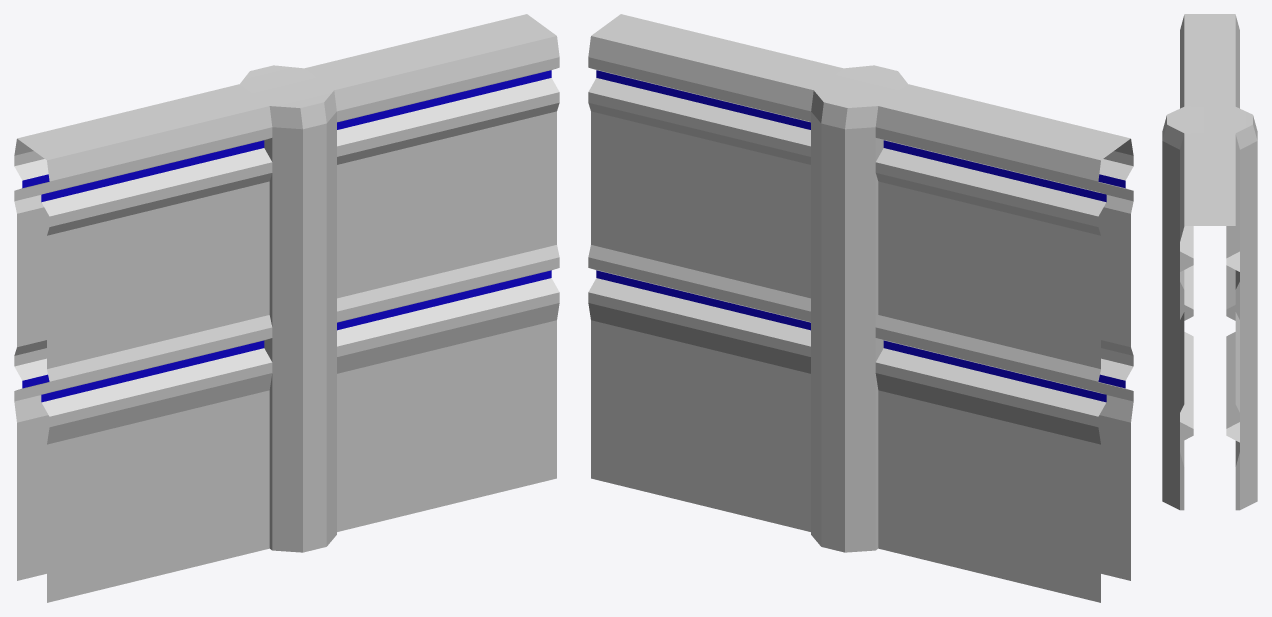
Rendered from FortressWall.fbx.
The picture shows the model from 3 angles, left to right: view 1: azimuth 30°, elevation 25°; view 2: azimuth 150°, elevation 25°; view 3: azimuth 270°, elevation 25°; orthographic projection. The views are drawn at different scales.
Parts seen in each view (by area): view 1: FortressWallMesh; view 2: FortressWallMesh; view 3: FortressWallMesh.
Part boxes in pixels (x1,y1,x2,y2): FortressWallMesh: (14, 14, 559, 602); FortressWallMesh: (588, 14, 1133, 602); FortressWallMesh: (1162, 14, 1257, 510).
Size of the model in its own units: 1600 by 1328 by 303.
